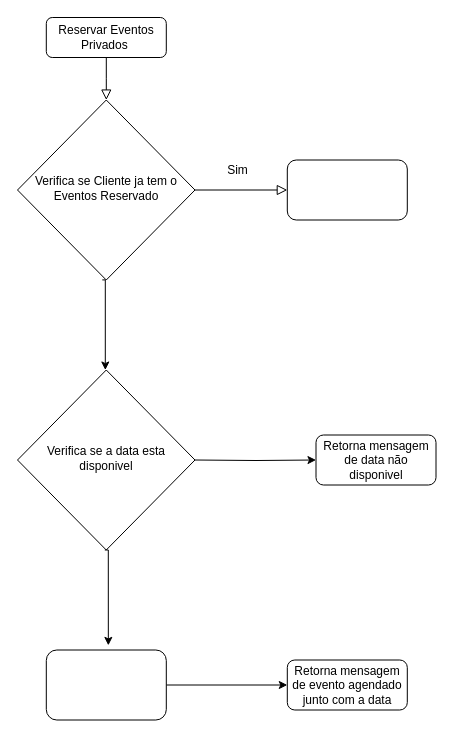
This 454x738 diagram has some shape labels left out. Here are the shapes that lost their labels. From the top down, the box of each, then its label:
(286, 159, 407, 220): Retorna mensagem de evento já reservado pelo cliente
(45, 649, 166, 720): Salva no banco na tabela cliente o evento junto com as informações do evento
